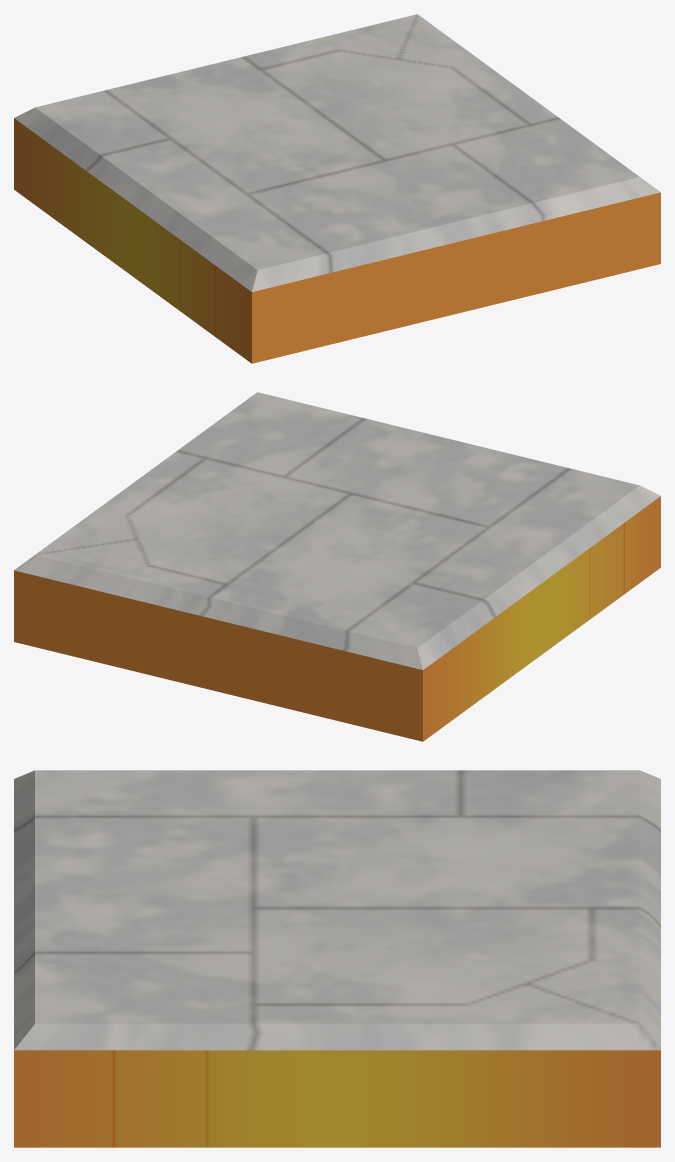
The model's file is Ground_scaf_tile.fbx.
3 views of the same model, one above another, from view 1: azimuth 30°, elevation 25°; view 2: azimuth 150°, elevation 25°; view 3: azimuth 270°, elevation 25° (orthographic). The views are drawn at different scales.
Parts seen in each view (by area): view 1: ground_tile; view 2: ground_tile; view 3: ground_tile.
Boxes of the visible parts, box(x1,y1,x2,y2) form: ground_tile: box(14, 14, 660, 363); ground_tile: box(14, 392, 660, 741); ground_tile: box(14, 770, 660, 1147).
Size of the model in its own units: 19.82 by 3.92 by 19.97.
